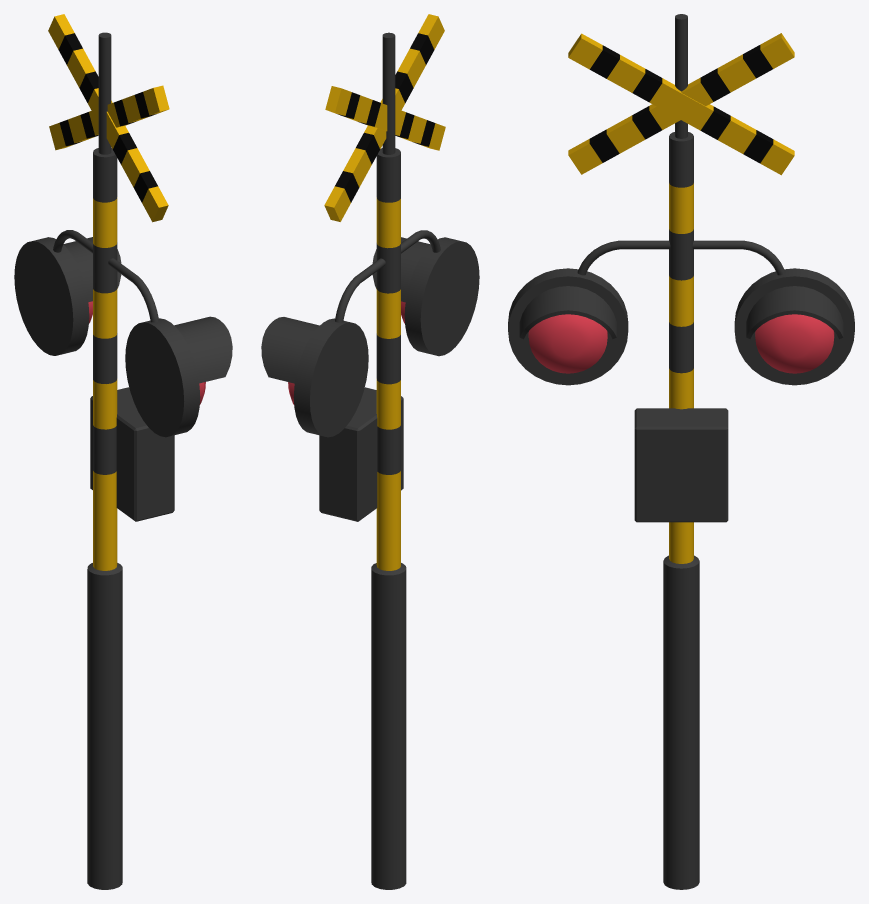
The model's file is TrafficLights_Train.fbx.
3 views of the same model, side by side, from view 1: azimuth 30°, elevation 25°; view 2: azimuth 150°, elevation 25°; view 3: azimuth 270°, elevation 25° (orthographic). The views are drawn at different scales.
Parts seen in each view (by area): view 1: TrafficLights_Train; view 2: TrafficLights_Train; view 3: TrafficLights_Train.
Part boxes in pixels (left/top/right/bottom): TrafficLights_Train: left=14, top=14, right=232, bottom=889; TrafficLights_Train: left=261, top=14, right=479, bottom=889; TrafficLights_Train: left=508, top=14, right=854, bottom=889.
Bounding box in the file's own units: 45.39 × 493 × 179.
